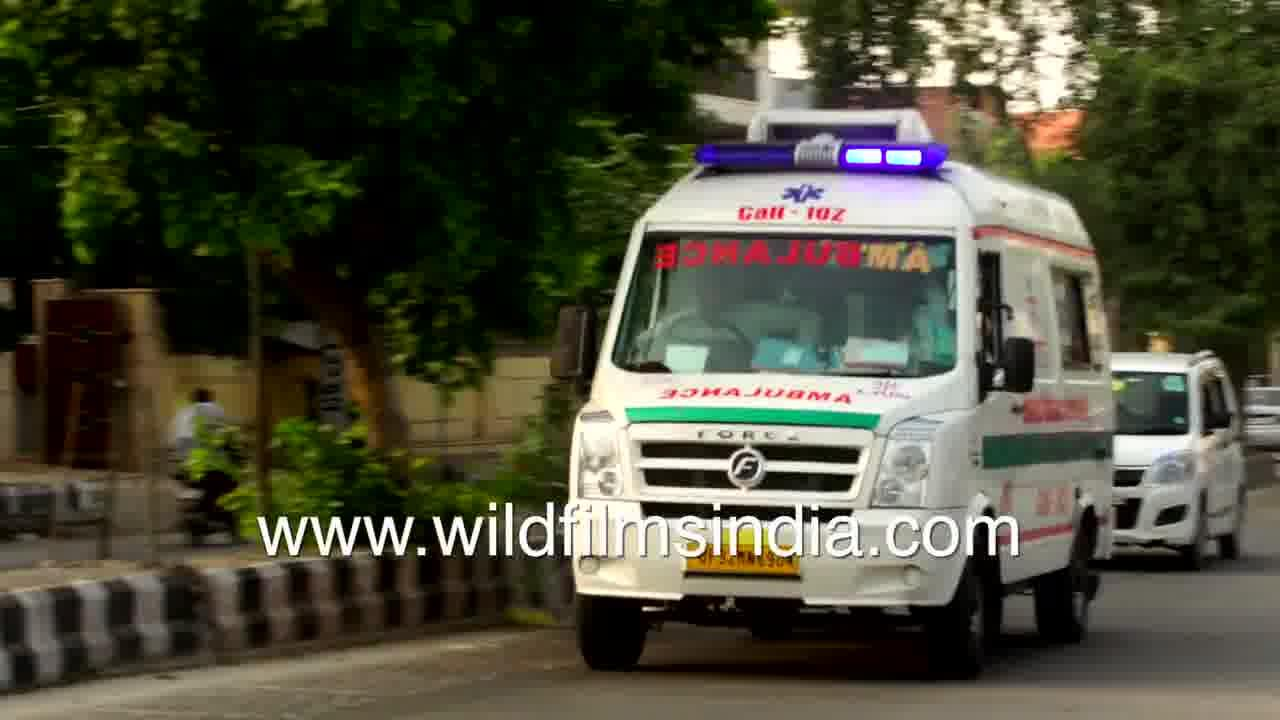AMBULANCE: (540, 101, 1145, 493)
